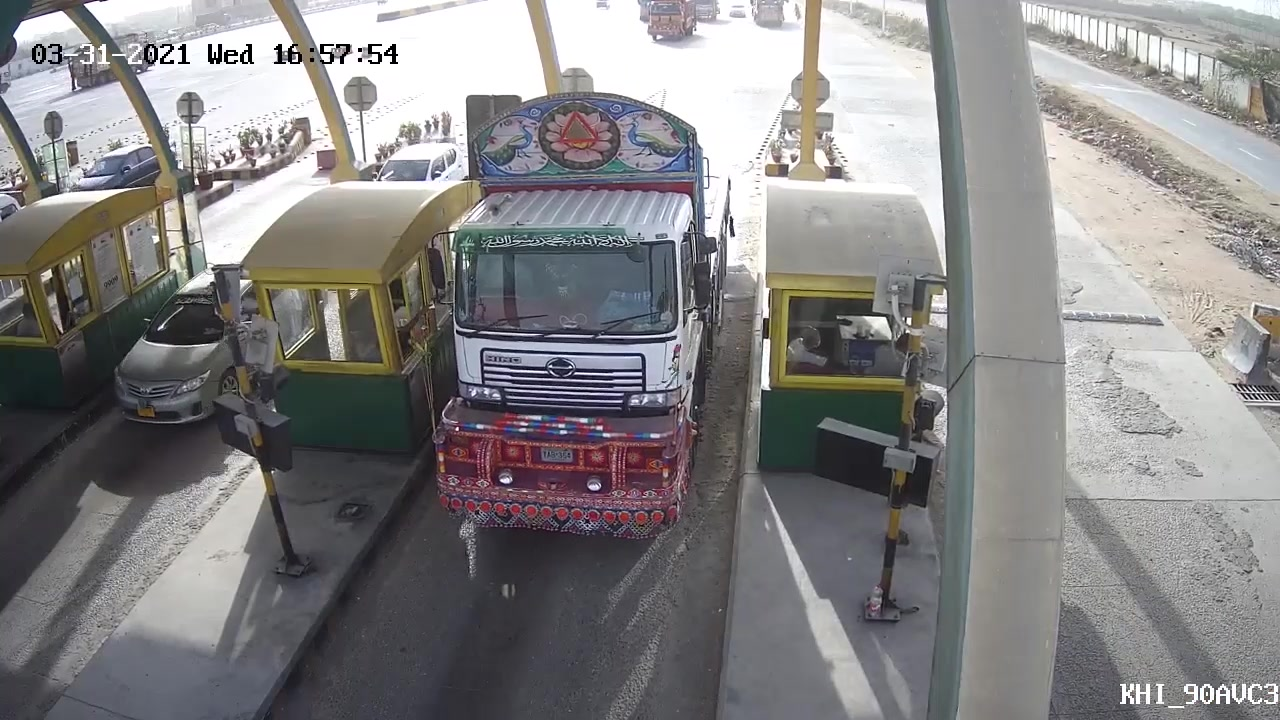F5: (431, 95, 743, 539)
